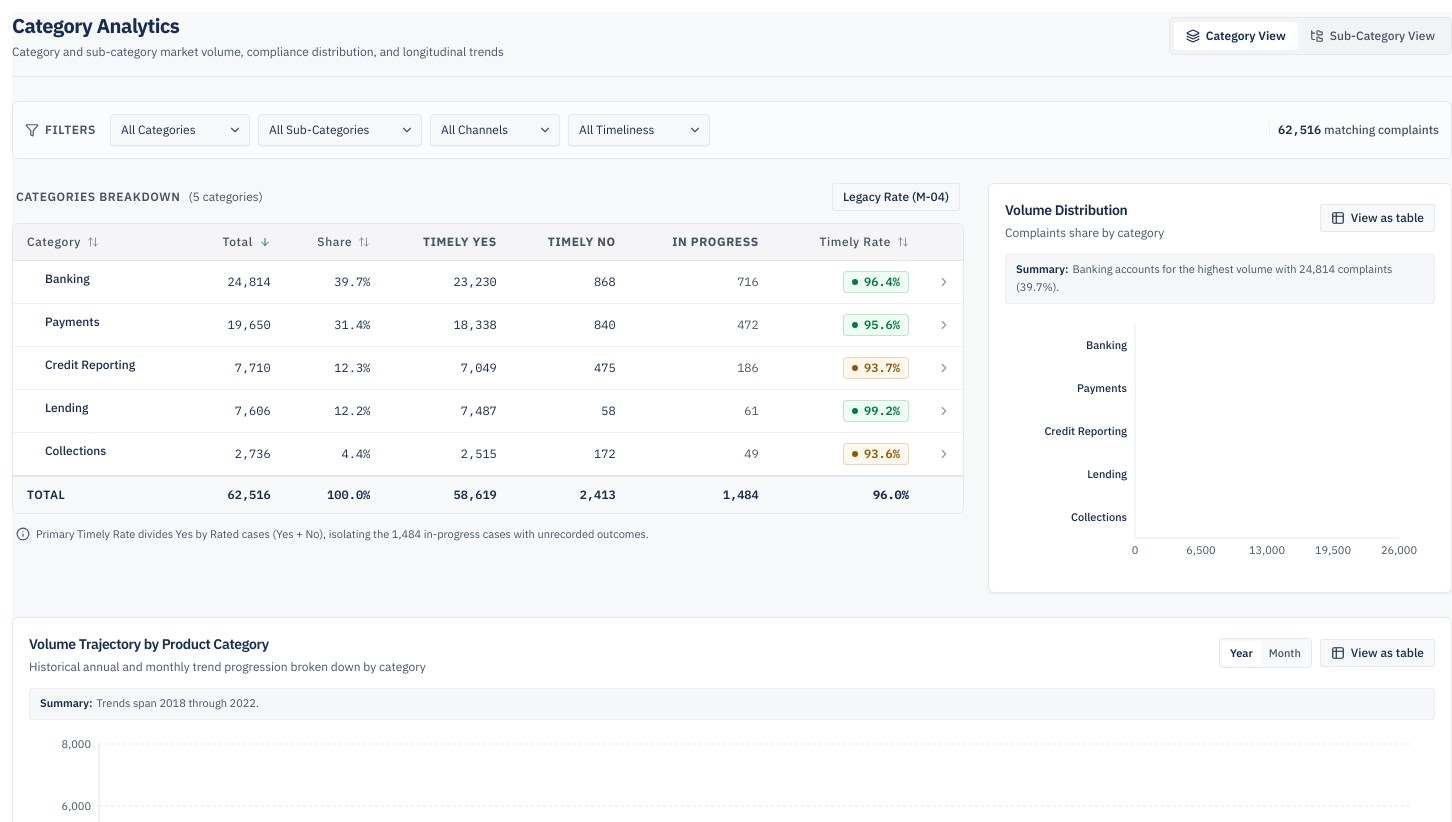
Test: Phase 8: Category Analytics Page (/categories) › toggles secondary legacy response rate (M-04) column on and off
Click the button with aria-label "toggle secondary legacy response rate column" at [896, 197], box [832,183,960,211]
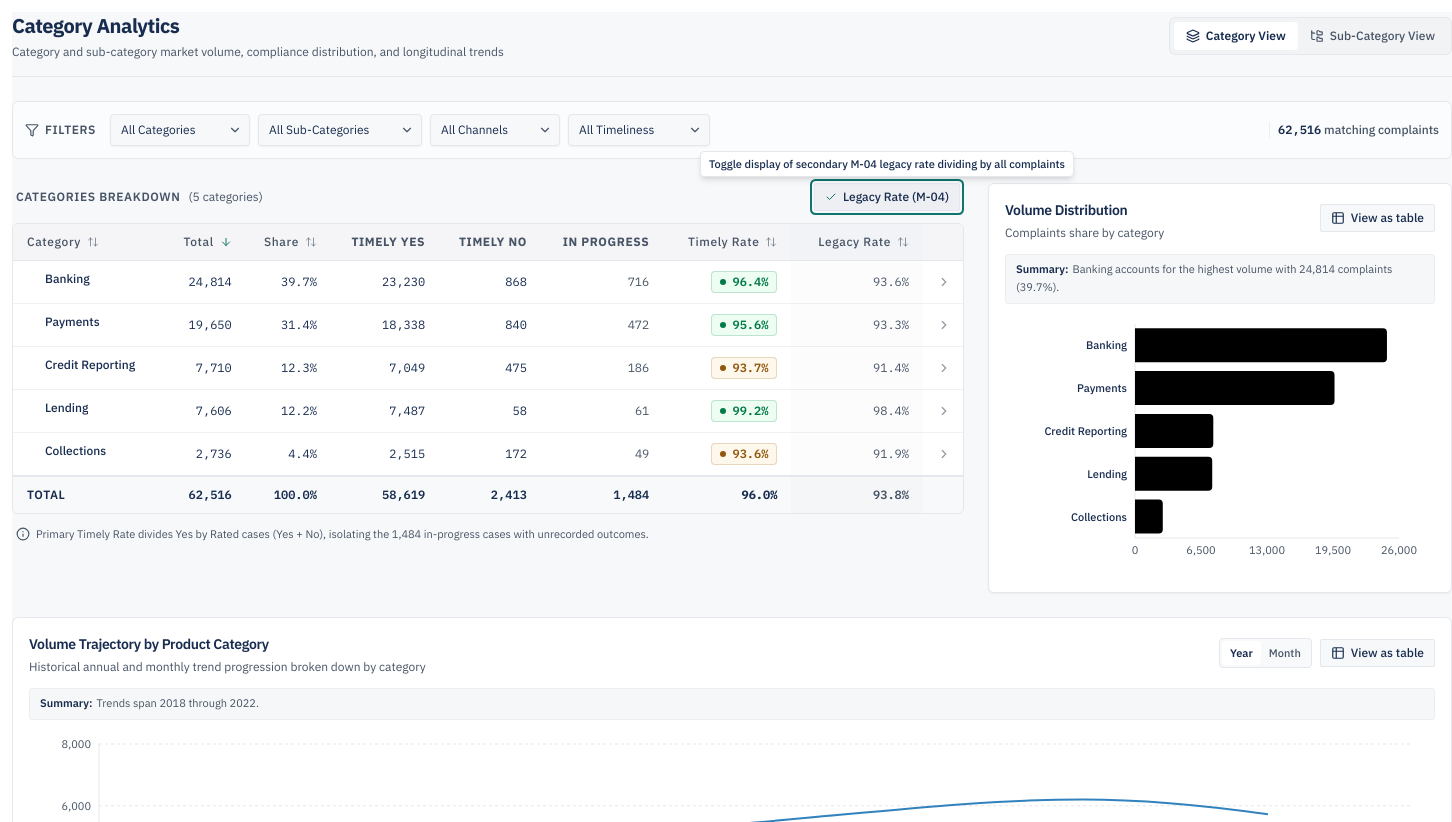
Check: the text "Legacy Rate" is shown, box [818,234,891,250]
